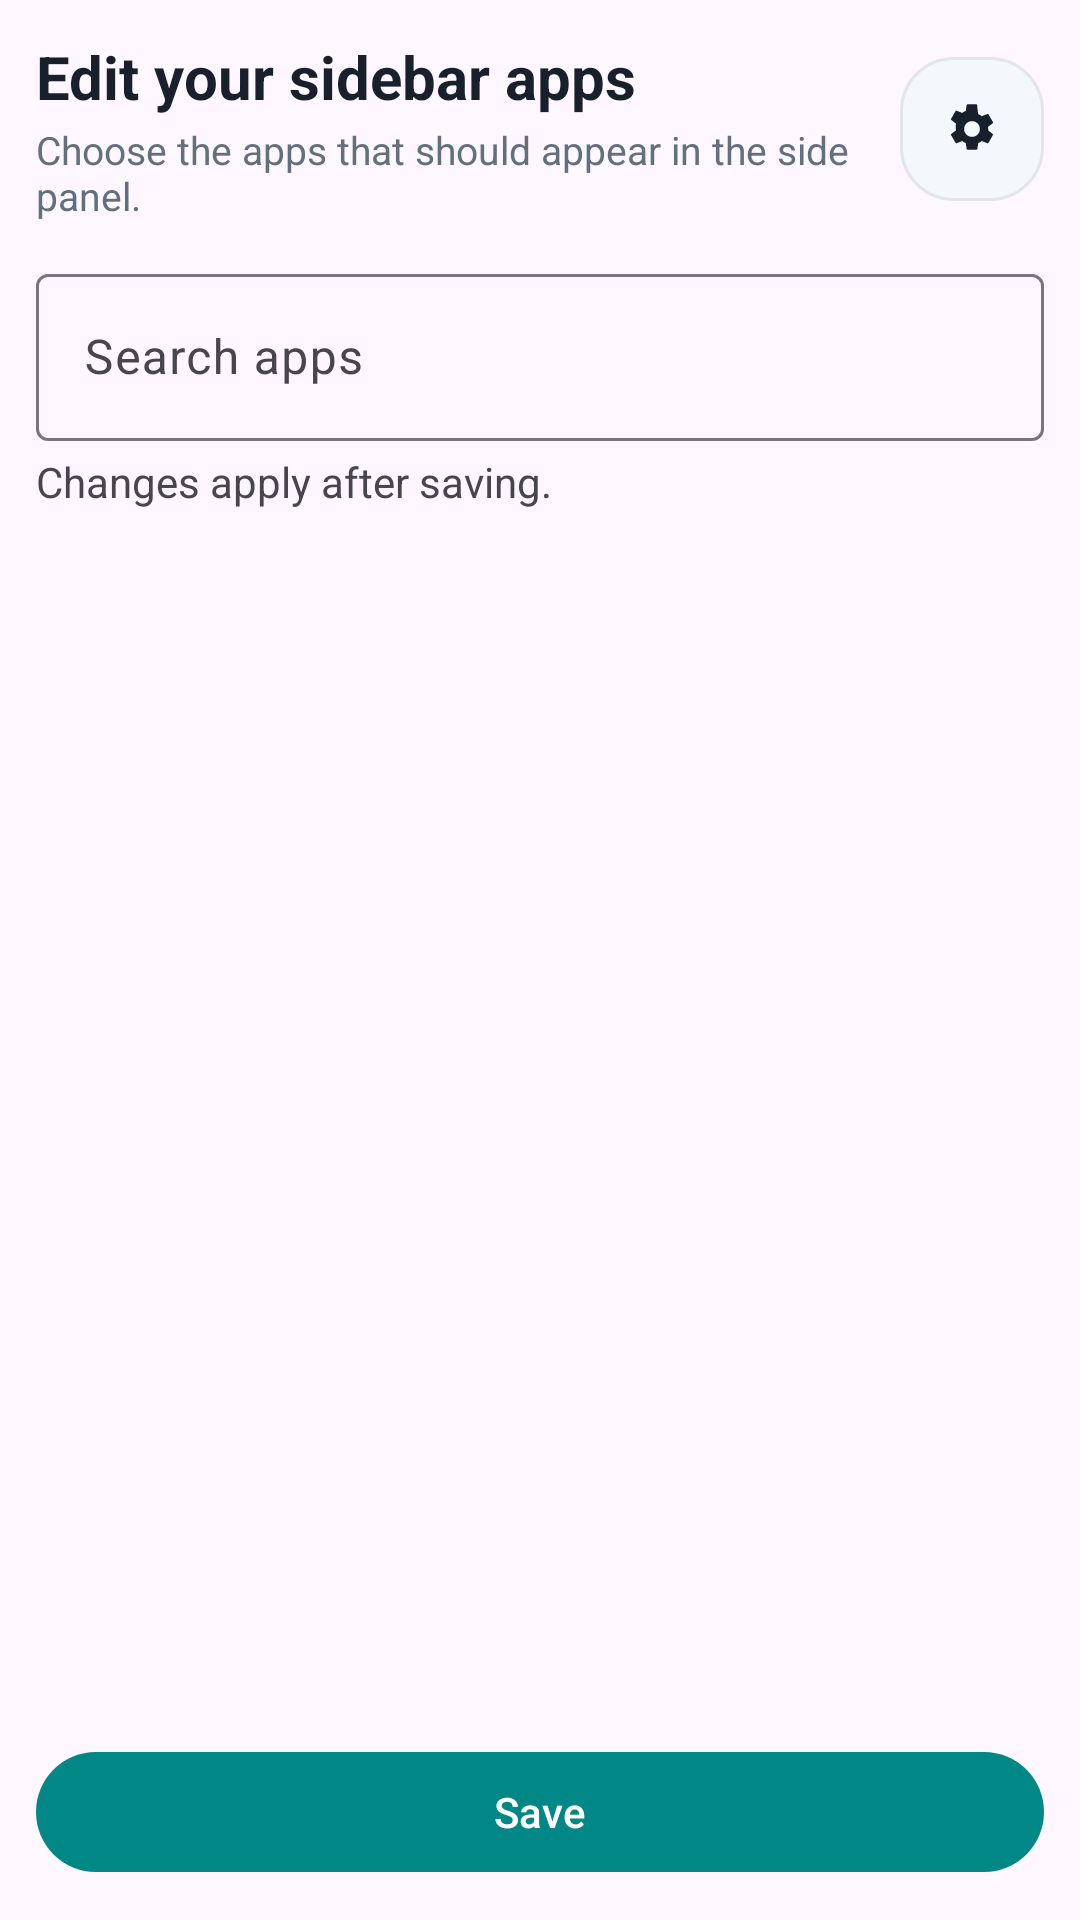

Where icons sit on this 1080px x 1920px app screen, as (x1, y1, x2, y2):
Open preferences: (900, 57, 1044, 201)
